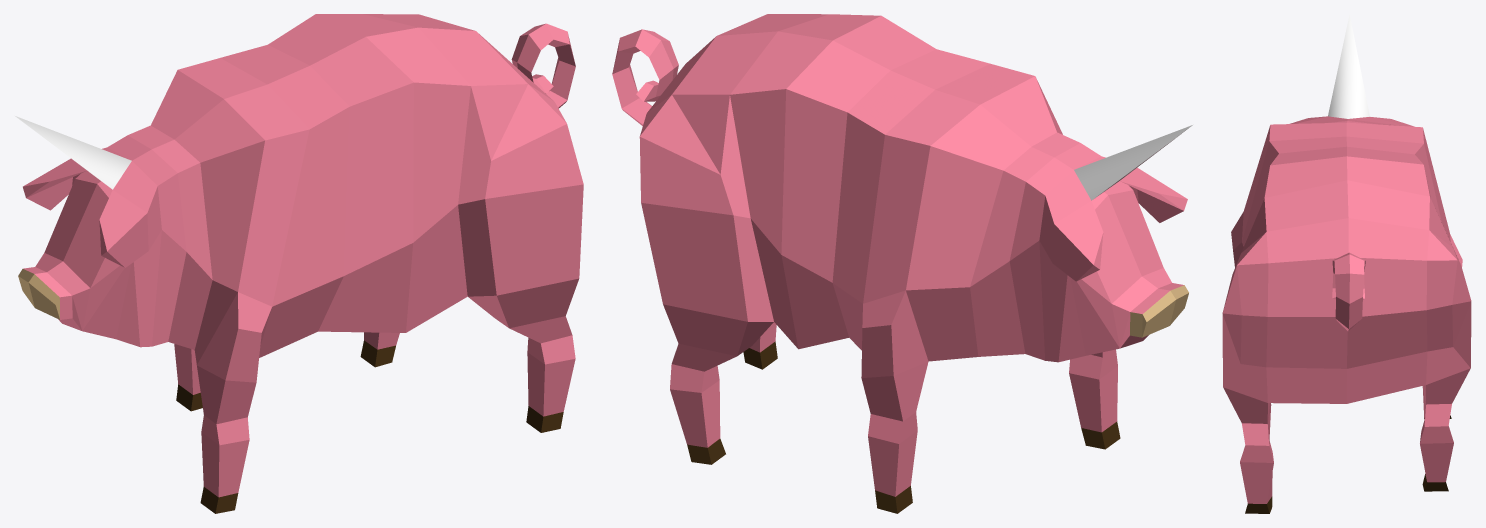
Rendered from pigWalking6.obj.
3 renders of one model, left to right at view 1: azimuth 30°, elevation 25°; view 2: azimuth 150°, elevation 25°; view 3: azimuth 270°, elevation 25°, orthographic. The views are drawn at different scales.
Visible parts, largest first — view 1: Pig_Cylinder; view 2: Pig_Cylinder; view 3: Pig_Cylinder.
Part boxes in pixels (x1=…): Pig_Cylinder: x1=15, y1=14, x2=583, y2=513; Pig_Cylinder: x1=612, y1=14, x2=1192, y2=513; Pig_Cylinder: x1=1222, y1=15, x2=1471, y2=513.
Bounding box in the file's own units: 23.3 × 15.32 × 11.11.
